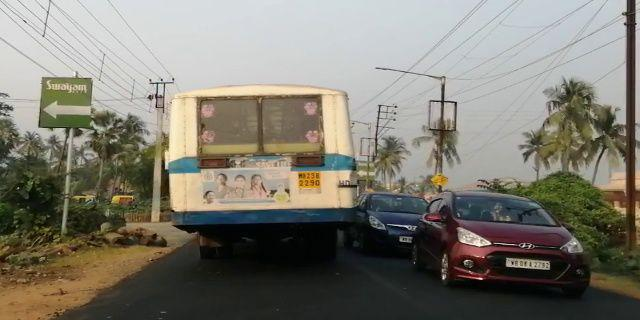Bus: (161, 80, 362, 261)
Car: (408, 187, 594, 304), (343, 187, 432, 254)
